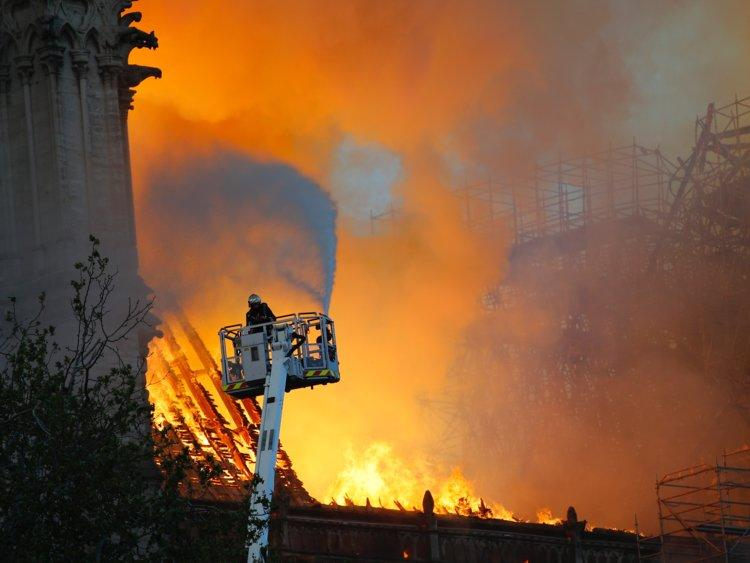Fire: (288, 413, 564, 538)
